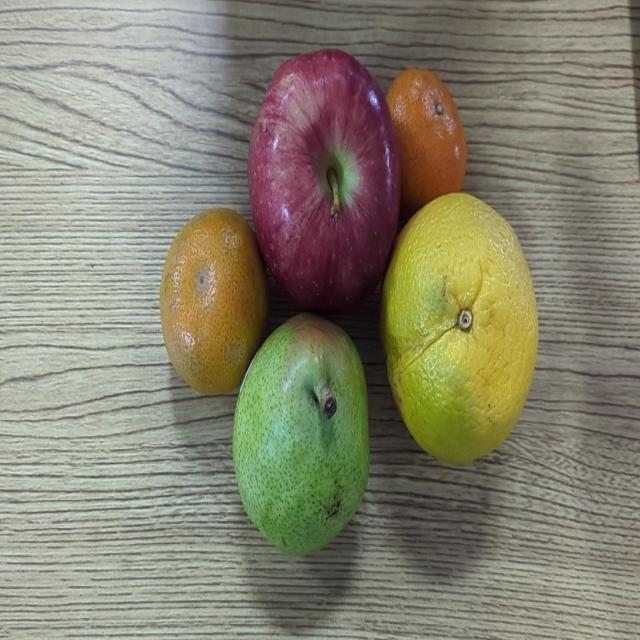Apel Merah: (245, 46, 404, 306)
Jeruk: (381, 188, 542, 470)
Jeruk Mandarin: (160, 201, 268, 390), (384, 61, 466, 201)
Pir: (230, 311, 373, 561)
